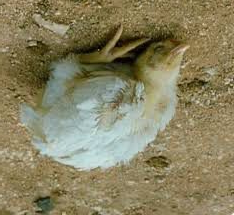Unhealthy: (16, 23, 197, 169)
